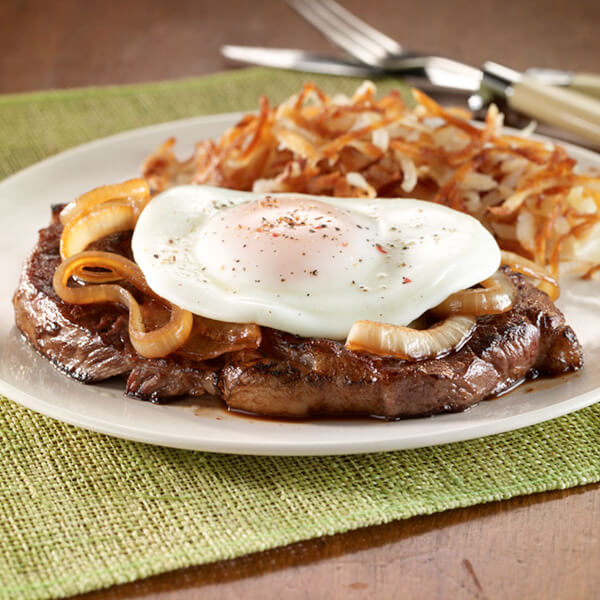fried egg: (156, 190, 456, 315)
